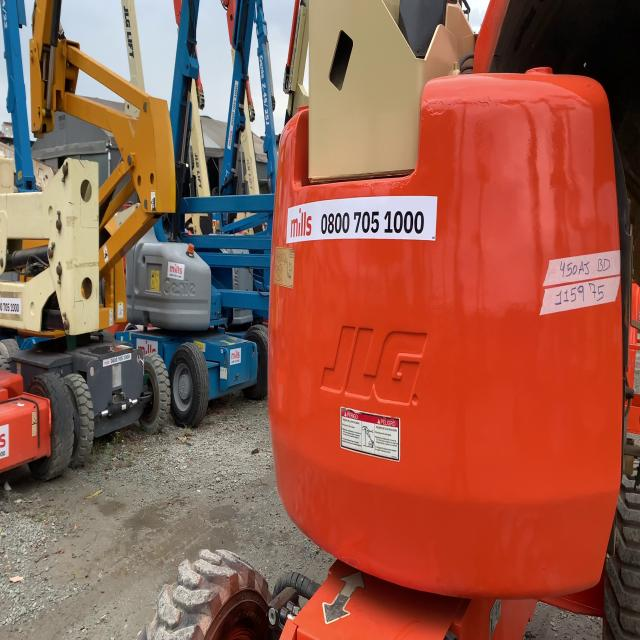Adesivo Longo: (285, 193, 439, 246)
Adesivos: (167, 261, 185, 281)
